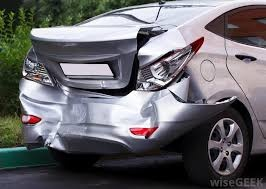Broken-glass: (138, 43, 204, 92)
Dent: (18, 87, 199, 148)
